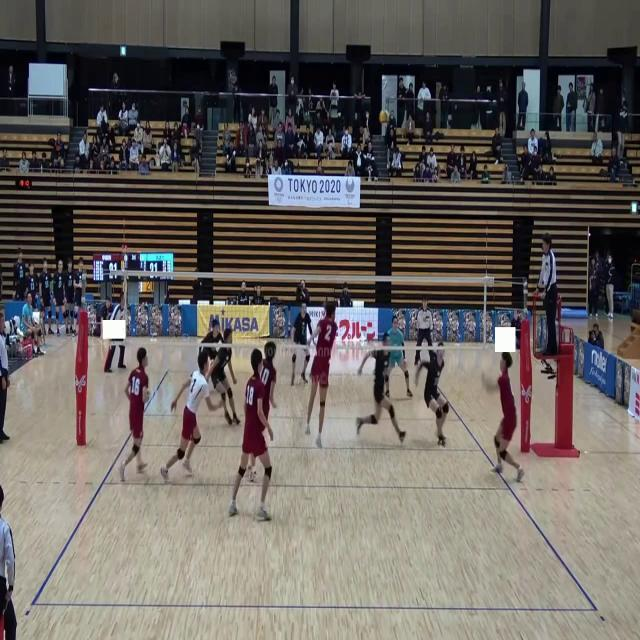volleyball: (379, 110, 390, 124)
